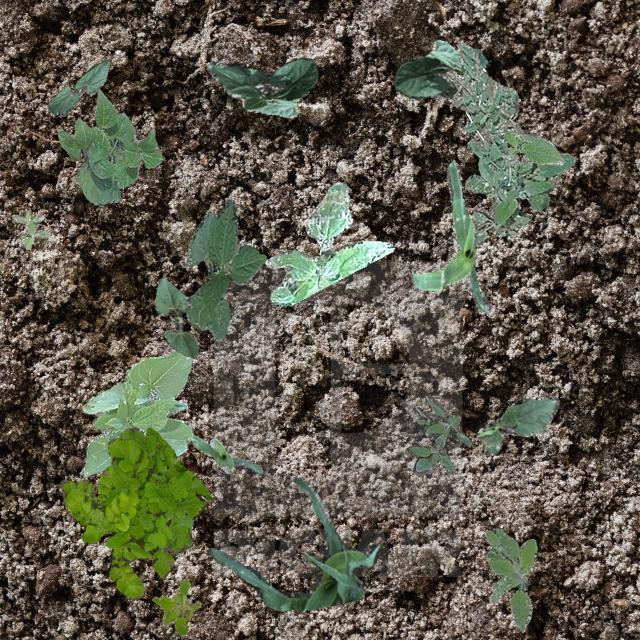crop: (206, 476, 378, 612), (82, 349, 192, 476), (56, 88, 162, 204), (410, 158, 490, 310), (184, 198, 266, 340), (392, 38, 504, 134), (205, 57, 318, 116), (476, 396, 558, 454), (476, 128, 564, 182), (46, 58, 108, 116), (154, 278, 198, 358), (190, 434, 262, 472)
weed: (60, 427, 210, 598), (264, 180, 394, 304), (446, 41, 534, 200), (464, 152, 574, 244), (484, 526, 536, 632), (404, 394, 470, 474), (150, 578, 200, 634), (12, 210, 49, 248)
